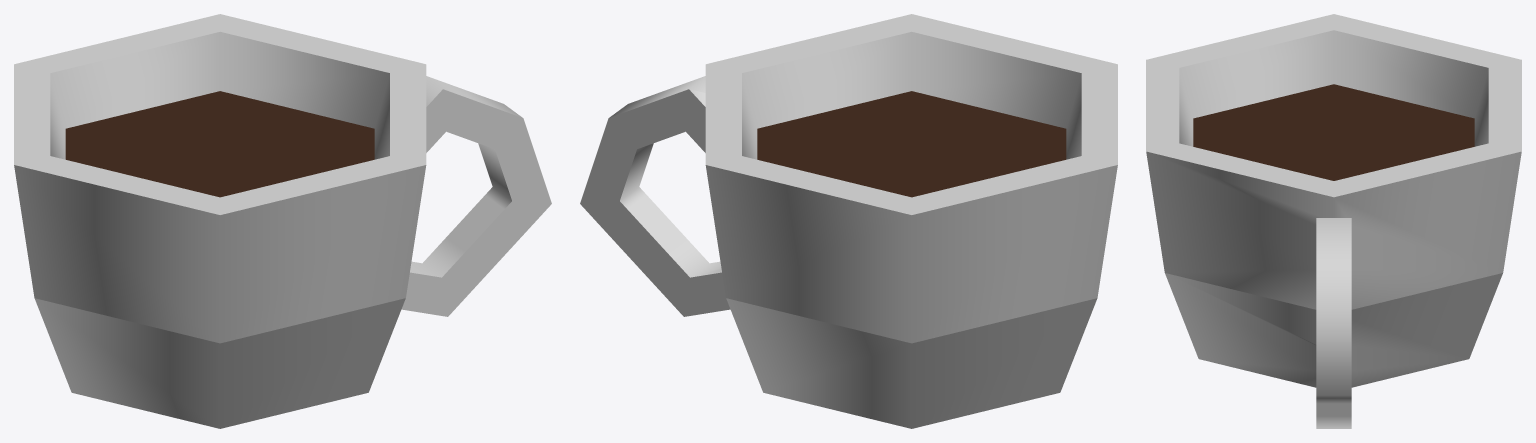
The model's file is tea.glb.
3 views of the same model, side by side, from view 1: azimuth 30°, elevation 25°; view 2: azimuth 150°, elevation 25°; view 3: azimuth 270°, elevation 25° (orthographic). The views are drawn at different scales.
Visible parts, largest first — view 1: cupTea; view 2: cupTea; view 3: cupTea.
Boxes of the visible parts, <box> form: cupTea: <box>14,14,551,428</box>; cupTea: <box>580,14,1117,428</box>; cupTea: <box>1146,14,1521,428</box>.
Bounding box in the file's own units: 0.3199 × 0.1438 × 0.2163.
